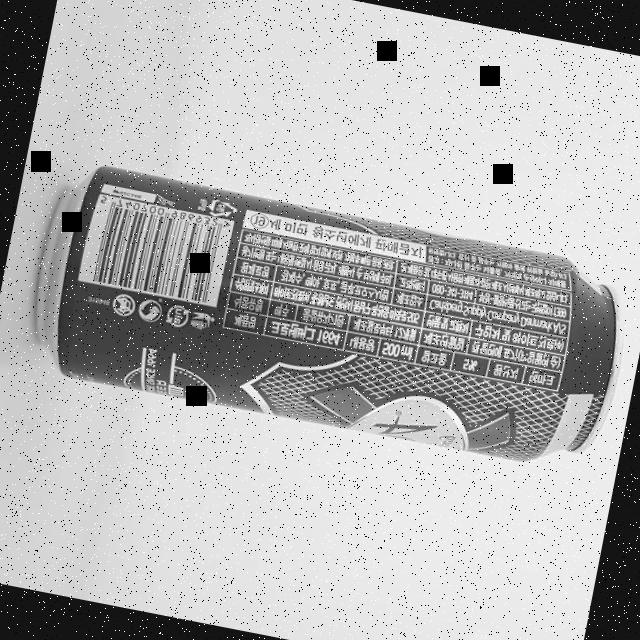can: (18, 158, 638, 481)
